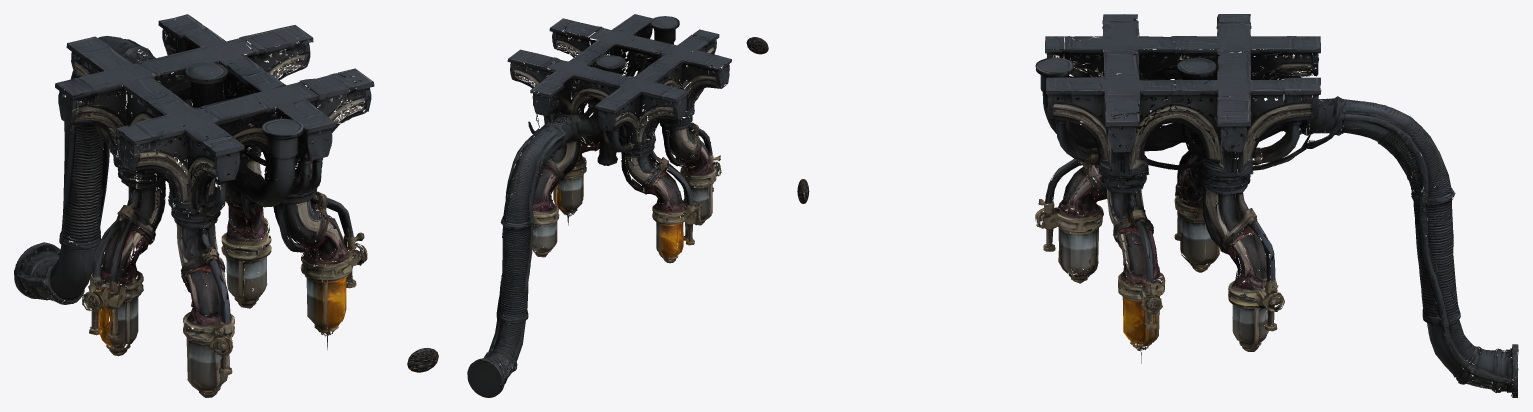
The model's file is ceiling_condensate_return_tree.glb.
The picture shows the model from 3 angles, left to right: view 1: azimuth 30°, elevation 25°; view 2: azimuth 150°, elevation 25°; view 3: azimuth 270°, elevation 25°; orthographic projection. The views are drawn at different scales.
Visible parts, largest first — view 1: node_0, HB_PULSE_00; view 2: node_0, HB_PULSE_00; view 3: node_0.
Part boxes in pixels (<box>): node_0: <box>14,14,374,397</box>; HB_PULSE_00: <box>407,348,438,372</box>; node_0: <box>467,14,731,397</box>; HB_PULSE_00: <box>746,37,768,54</box>; node_0: <box>1035,14,1518,397</box>.
Bounding box in the file's own units: 0.5483 × 0.7146 × 1.43.
Materials: 1 (1 with a texture image).
